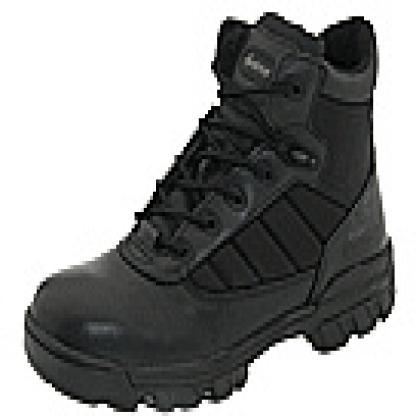bota: (21, 6, 396, 409)
